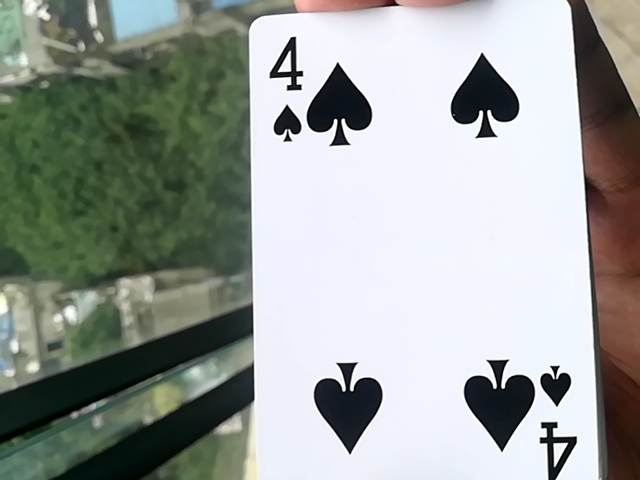ht 4: (234, 10, 618, 479)
